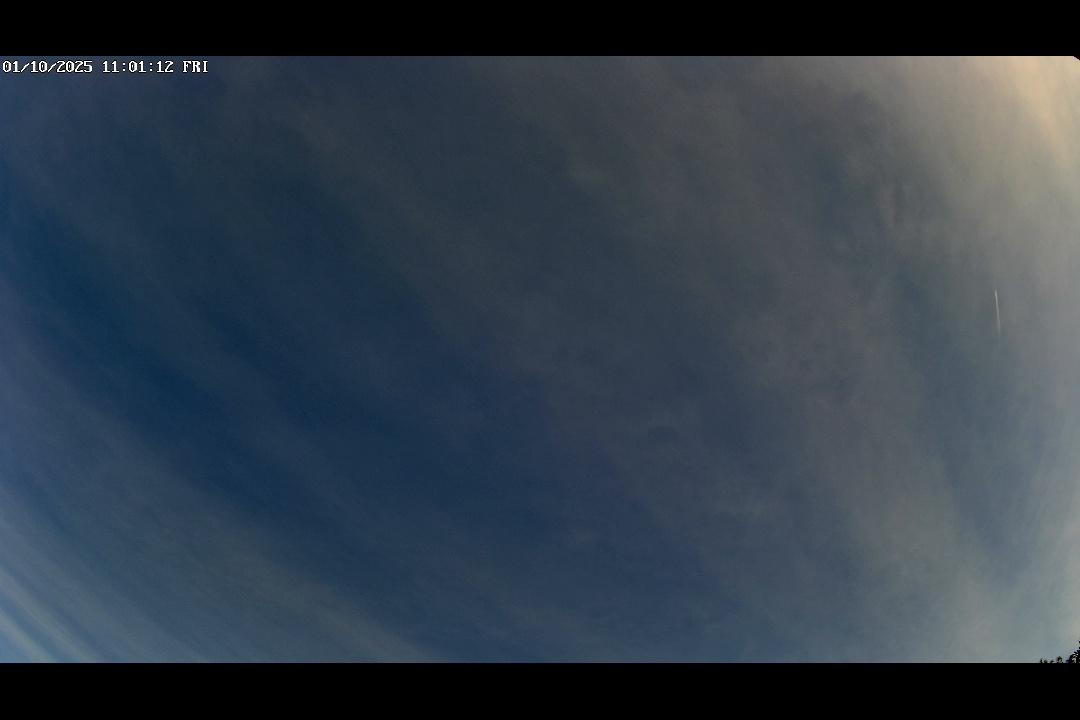Plane: (991, 281, 1007, 340)
